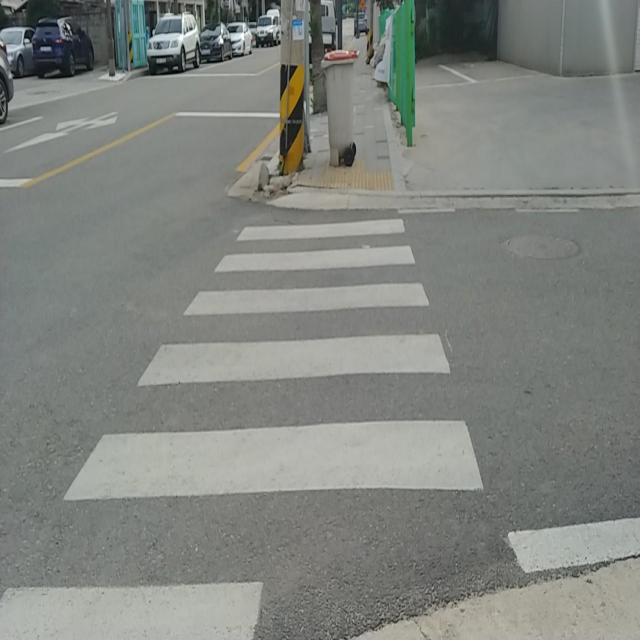횡단보도: (0, 214, 487, 640)
